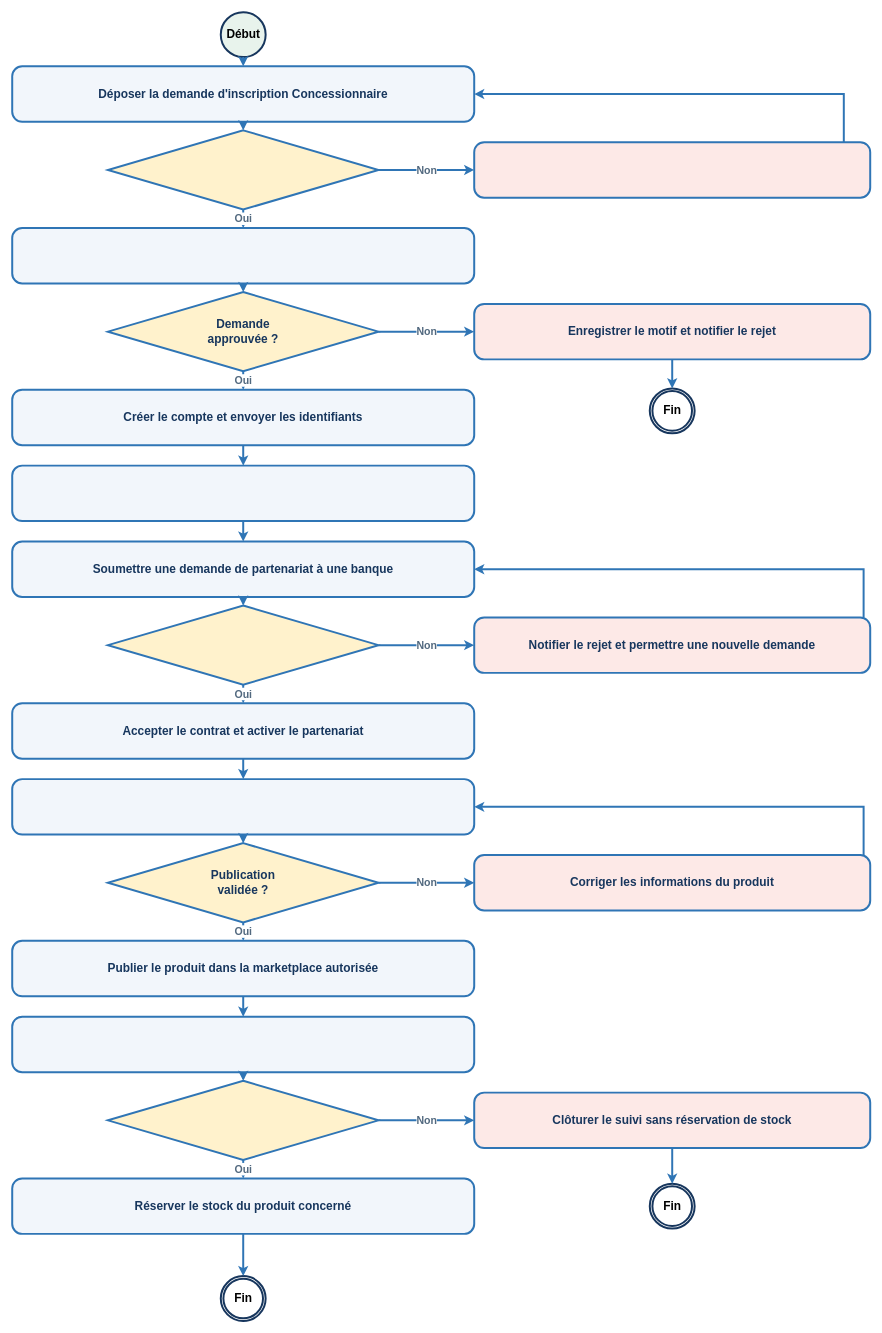
The diagram is 882 pixels wide and 1333 high, and some of its shapes have lost their labels. The centre of each missing label's shape, as x and y in pixels:
"Compléter ou corriger le dossier" belongs at point (672, 169).
"Dossier complet ?" belongs at point (243, 169).
"Financement accepté ?" belongs at point (243, 1120).
"L'Administrateur SaaS examine la demande" belongs at point (243, 255).
"Partenariat accepté ?" belongs at point (243, 644).
"S'authentifier et gérer le catalogue et le stock" belongs at point (243, 493).
"Soumettre un produit à la publication" belongs at point (243, 806).
"Suivre les demandes de financement associées" belongs at point (243, 1044).
